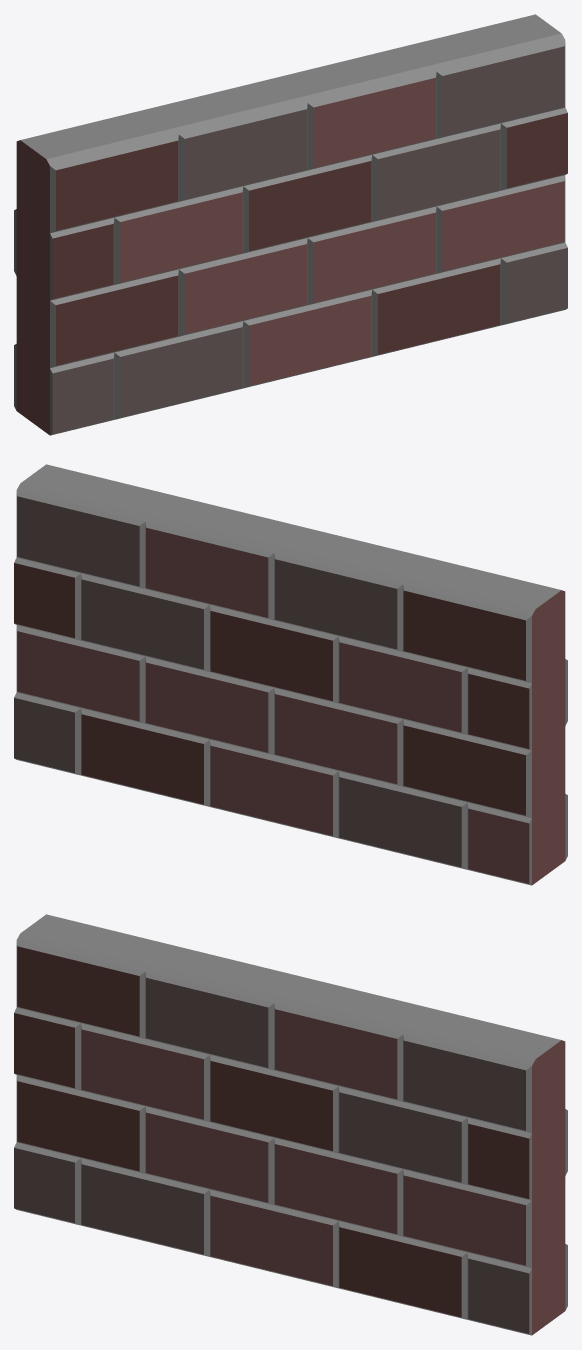
Rendered from steampunk_wall_brick_half.fbx.
3 renders of one model, top to bottom at view 1: azimuth 30°, elevation 25°; view 2: azimuth 150°, elevation 25°; view 3: azimuth 330°, elevation 25°, orthographic.
Visible parts, largest first — view 1: Cube.004; view 2: Cube.004; view 3: Cube.004.
Part boxes in pixels (x1=…): Cube.004: x1=14, y1=14, x2=567, y2=435; Cube.004: x1=14, y1=464, x2=567, y2=885; Cube.004: x1=14, y1=914, x2=567, y2=1335.
Bounding box in the file's own units: 3 × 1.52 × 0.389.
